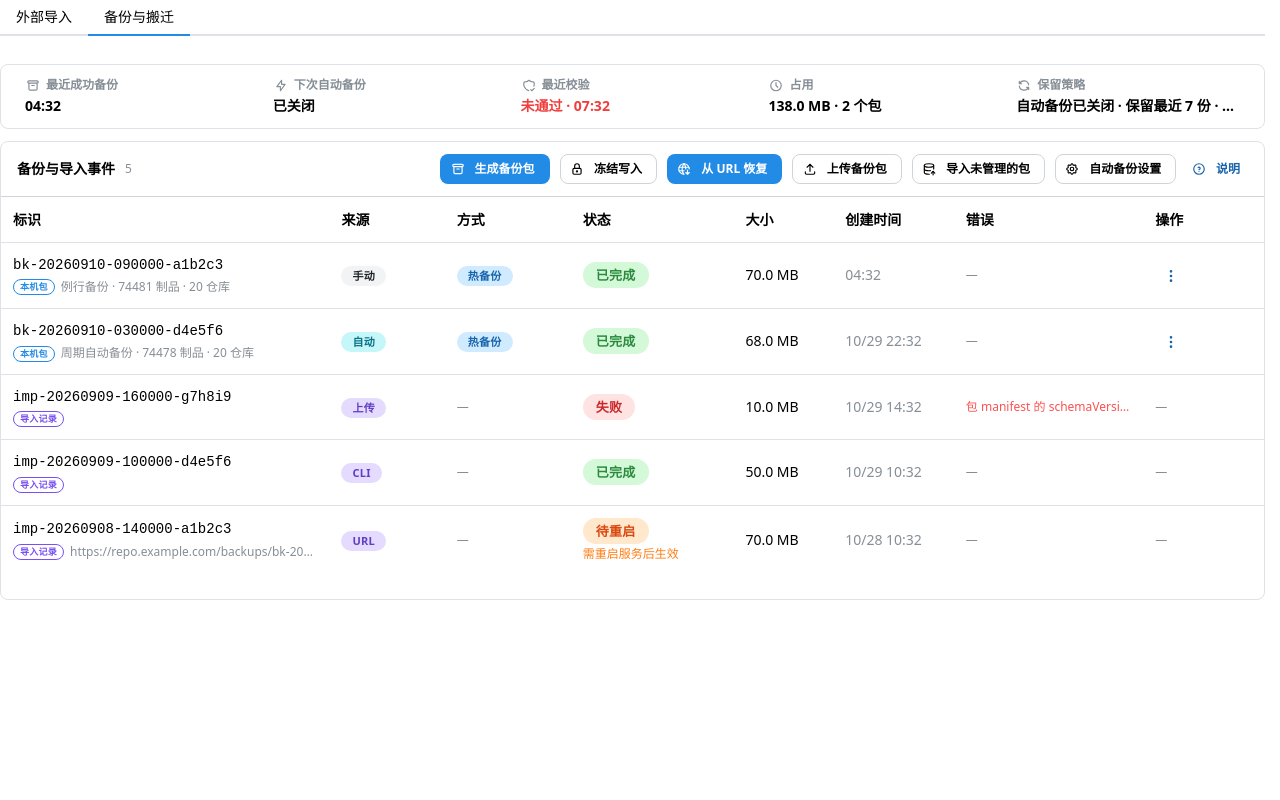
备份与搬迁 › 动作条给出六个操作按钮，两条主路径的说明迁到「说明」气泡里
This screenshot has width=1280, height=800.
Expected: the button "生成备份包" is shown, [440,154,550,184]
Expected: the button "冻结写入" is shown, [560,154,657,184]
Click the button with aria-label "备份与搬迁怎么用".
click(1217, 169)  # box [1186,158,1248,180]
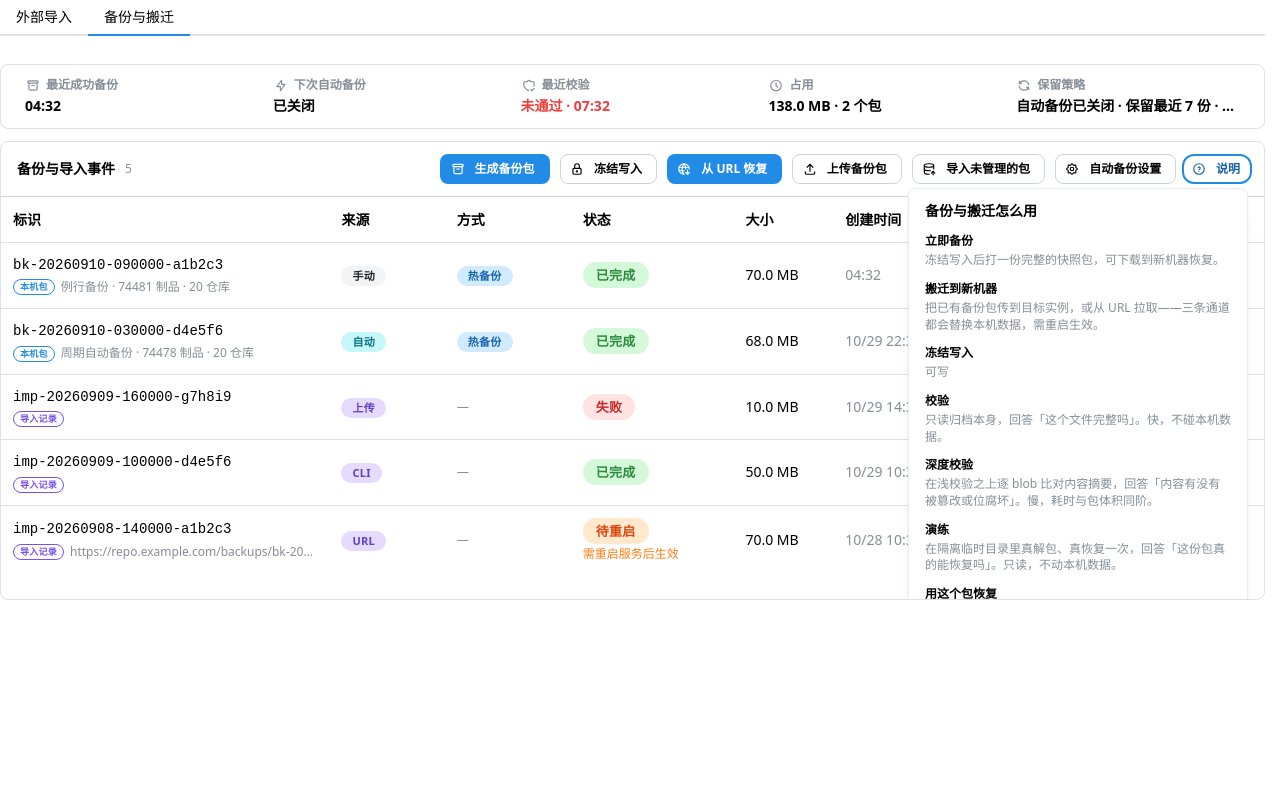
Expected: the text "立即备份" is shown, [925,232,973,249]
Expected: the text "搬迁到新机器" is shown, [925,280,997,297]
Expected: the text "冻结写入后打一份完整的快照包，可下载到新机器恢复。" is shown, [925,252,1231,269]
